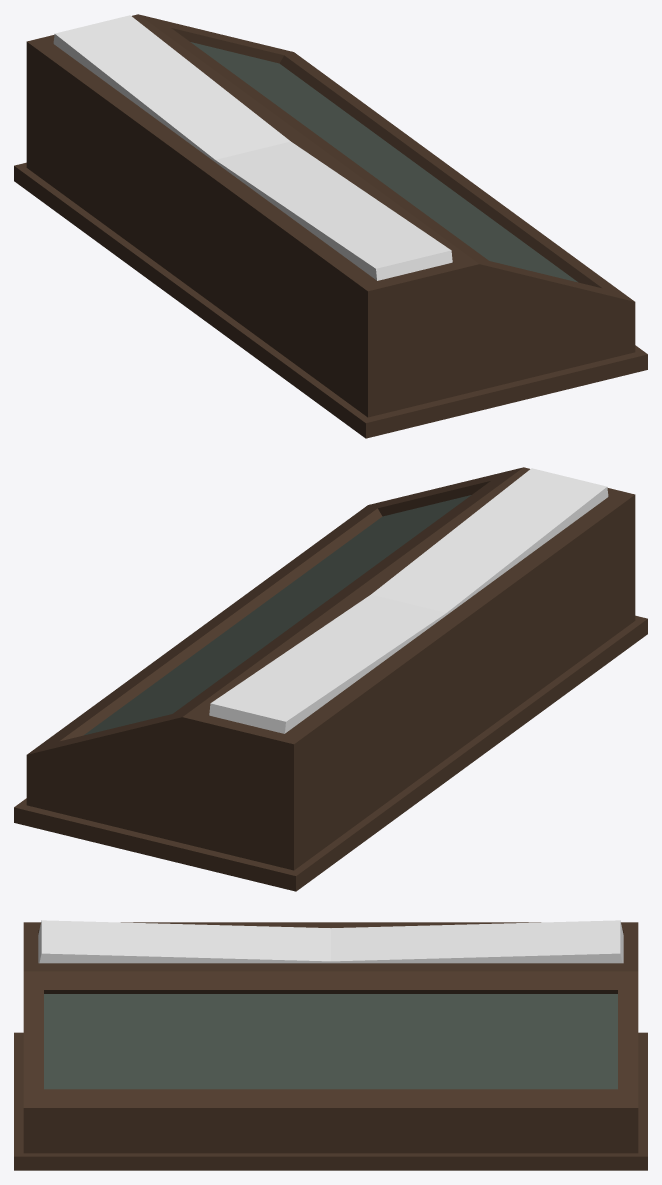
File: chess_timer.glb
3 renders of one model, top to bottom at view 1: azimuth 30°, elevation 25°; view 2: azimuth 150°, elevation 25°; view 3: azimuth 270°, elevation 25°, orthographic. The views are drawn at different scales.
Parts seen in each view (by area): view 1: body, button; view 2: body, button; view 3: body, button.
Part boxes in pixels (box(x1,y1,x2,y2)): body: box(14, 14, 647, 438); button: box(53, 15, 452, 280); body: box(14, 467, 647, 891); button: box(209, 468, 608, 733); body: box(14, 922, 647, 1170); button: box(38, 920, 623, 963).
Bounding box in the file's own units: 0.1434 × 0.0741 × 0.3097.
